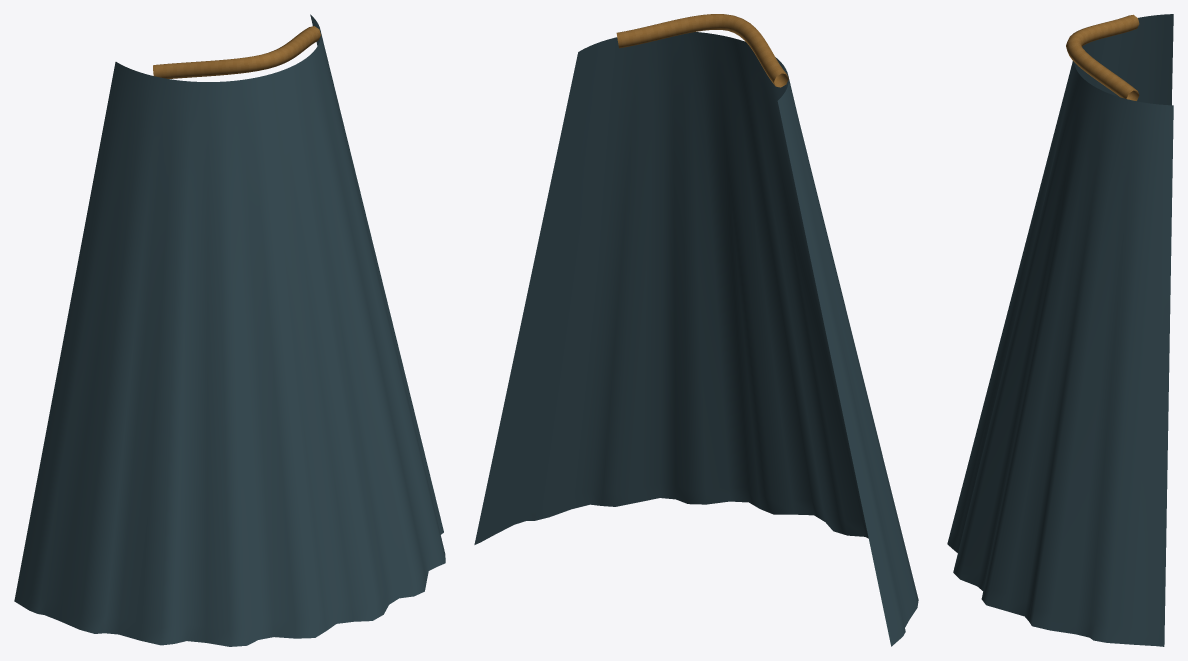
The picture shows the model from 3 angles, left to right: view 1: azimuth 30°, elevation 25°; view 2: azimuth 150°, elevation 25°; view 3: azimuth 270°, elevation 25°; orthographic projection. The views are drawn at different scales.
Parts seen in each view (by area): view 1: cloth.0, brass.1; view 2: cloth.0, brass.1; view 3: cloth.0, brass.1.
Part boxes in pixels (bbox=[...]): cloth.0: bbox=[14, 14, 445, 646]; brass.1: bbox=[153, 26, 320, 78]; cloth.0: bbox=[474, 32, 918, 646]; brass.1: bbox=[616, 14, 788, 87]; cloth.0: bbox=[947, 14, 1173, 646]; brass.1: bbox=[1066, 14, 1139, 100].
Bounding box in the file's own units: 0.9172 × 1.15 × 0.4592.
2 materials, 2 textured.
